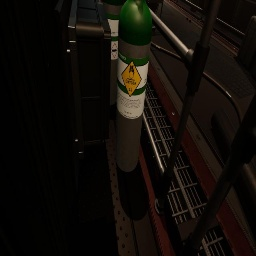0: (115, 0, 152, 172), (101, 0, 123, 106)
NitrogenTank ,: (190, 0, 199, 12)
